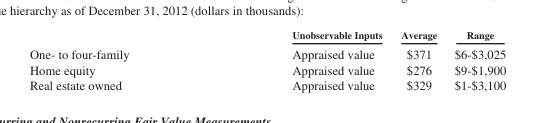table: (28, 28, 505, 91)
table column: (28, 28, 210, 91), (210, 28, 391, 91), (445, 28, 505, 91), (391, 28, 445, 91)
table column header: (28, 28, 505, 43)
table row: (28, 43, 505, 61), (28, 28, 505, 43), (28, 61, 505, 76), (28, 76, 505, 91)
